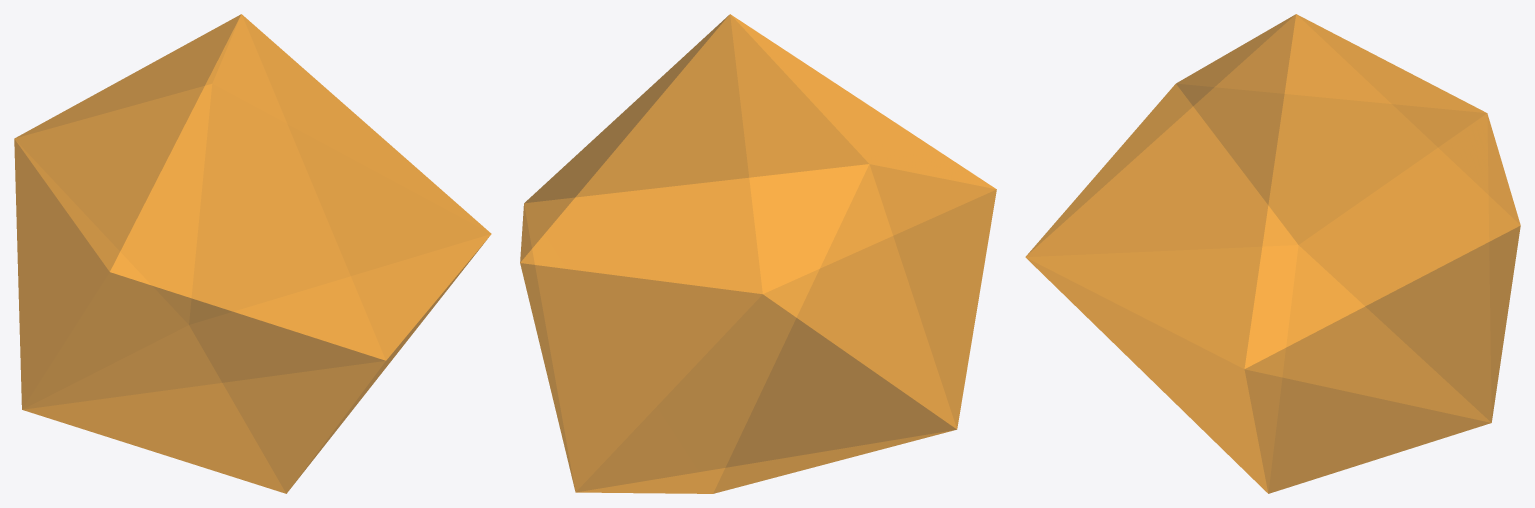
File: sparkOrange.dae
3 renders of one model, left to right at view 1: azimuth 30°, elevation 25°; view 2: azimuth 150°, elevation 25°; view 3: azimuth 270°, elevation 25°, orthographic. The views are drawn at different scales.
Visible parts, largest first — view 1: spark2; view 2: spark2; view 3: spark2.
Boxes of the visible parts, box(x1,y1,x2,y2) form: spark2: box(14, 14, 491, 493); spark2: box(520, 14, 996, 493); spark2: box(1025, 14, 1520, 493).
Bounding box in the file's own units: 0.0966 × 0.0961 × 0.0996.
